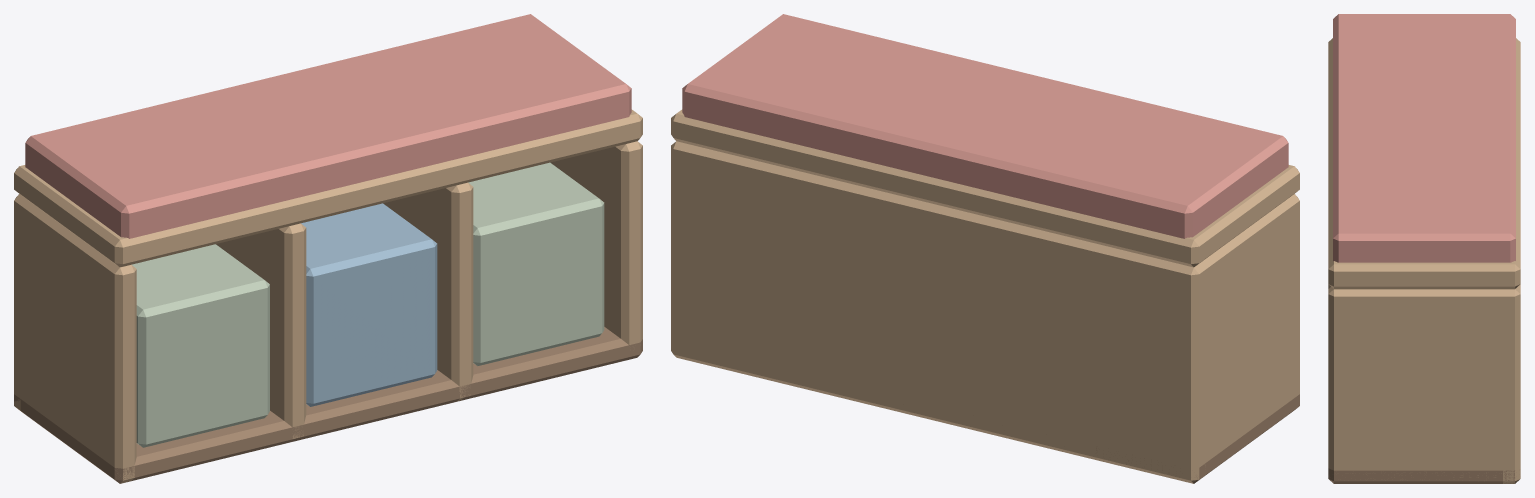
File: StorageBench.glb
The picture shows the model from 3 angles, left to right: view 1: azimuth 30°, elevation 25°; view 2: azimuth 150°, elevation 25°; view 3: azimuth 270°, elevation 25°; orthographic projection. The views are drawn at different scales.
Parts seen in each view (by area): view 1: SpaceSaver_StorageBench; view 2: SpaceSaver_StorageBench; view 3: SpaceSaver_StorageBench.
Boxes of the visible parts, x1=… form: SpaceSaver_StorageBench: x1=14, y1=14, x2=642, y2=483; SpaceSaver_StorageBench: x1=671, y1=14, x2=1299, y2=483; SpaceSaver_StorageBench: x1=1328, y1=14, x2=1520, y2=483.
Size of the model in its own units: 1.2 by 0.595 by 0.42.
